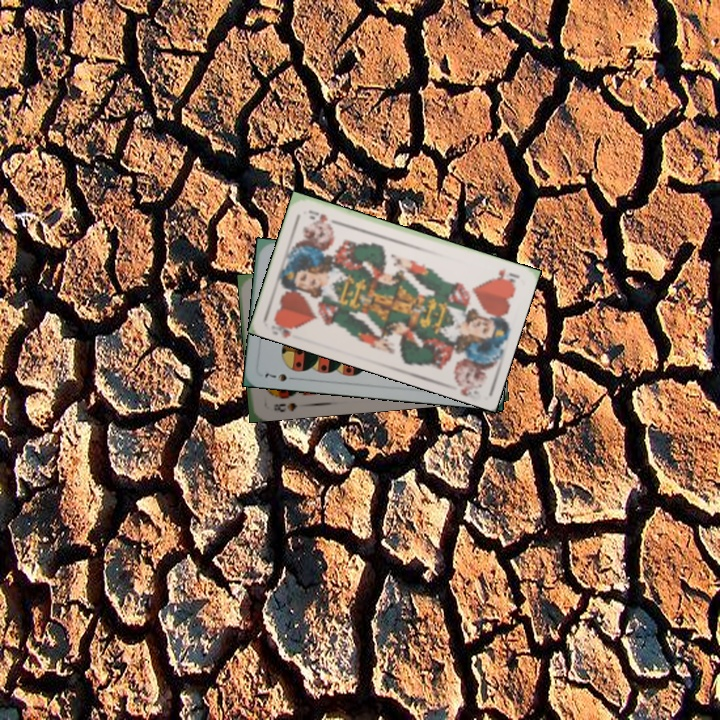HO: (267, 315, 304, 340), (493, 264, 522, 285)
S7: (261, 369, 299, 384)
S8: (269, 398, 300, 415)
